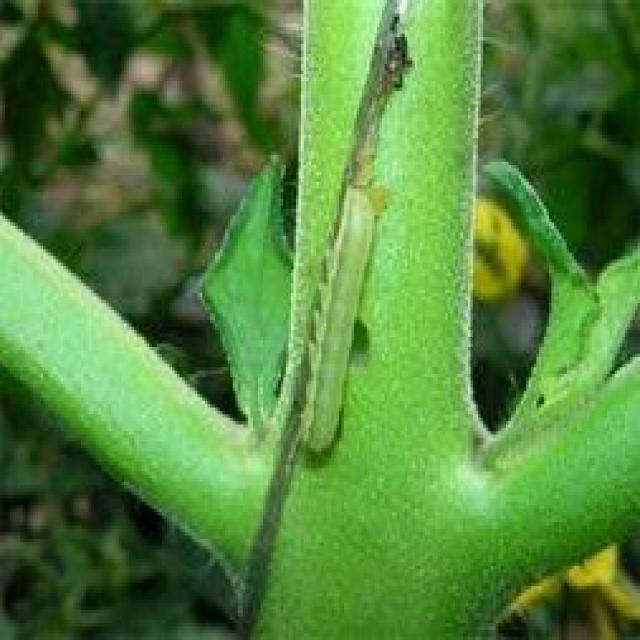BeetArmyWorm-Larva-: (295, 178, 383, 461)
